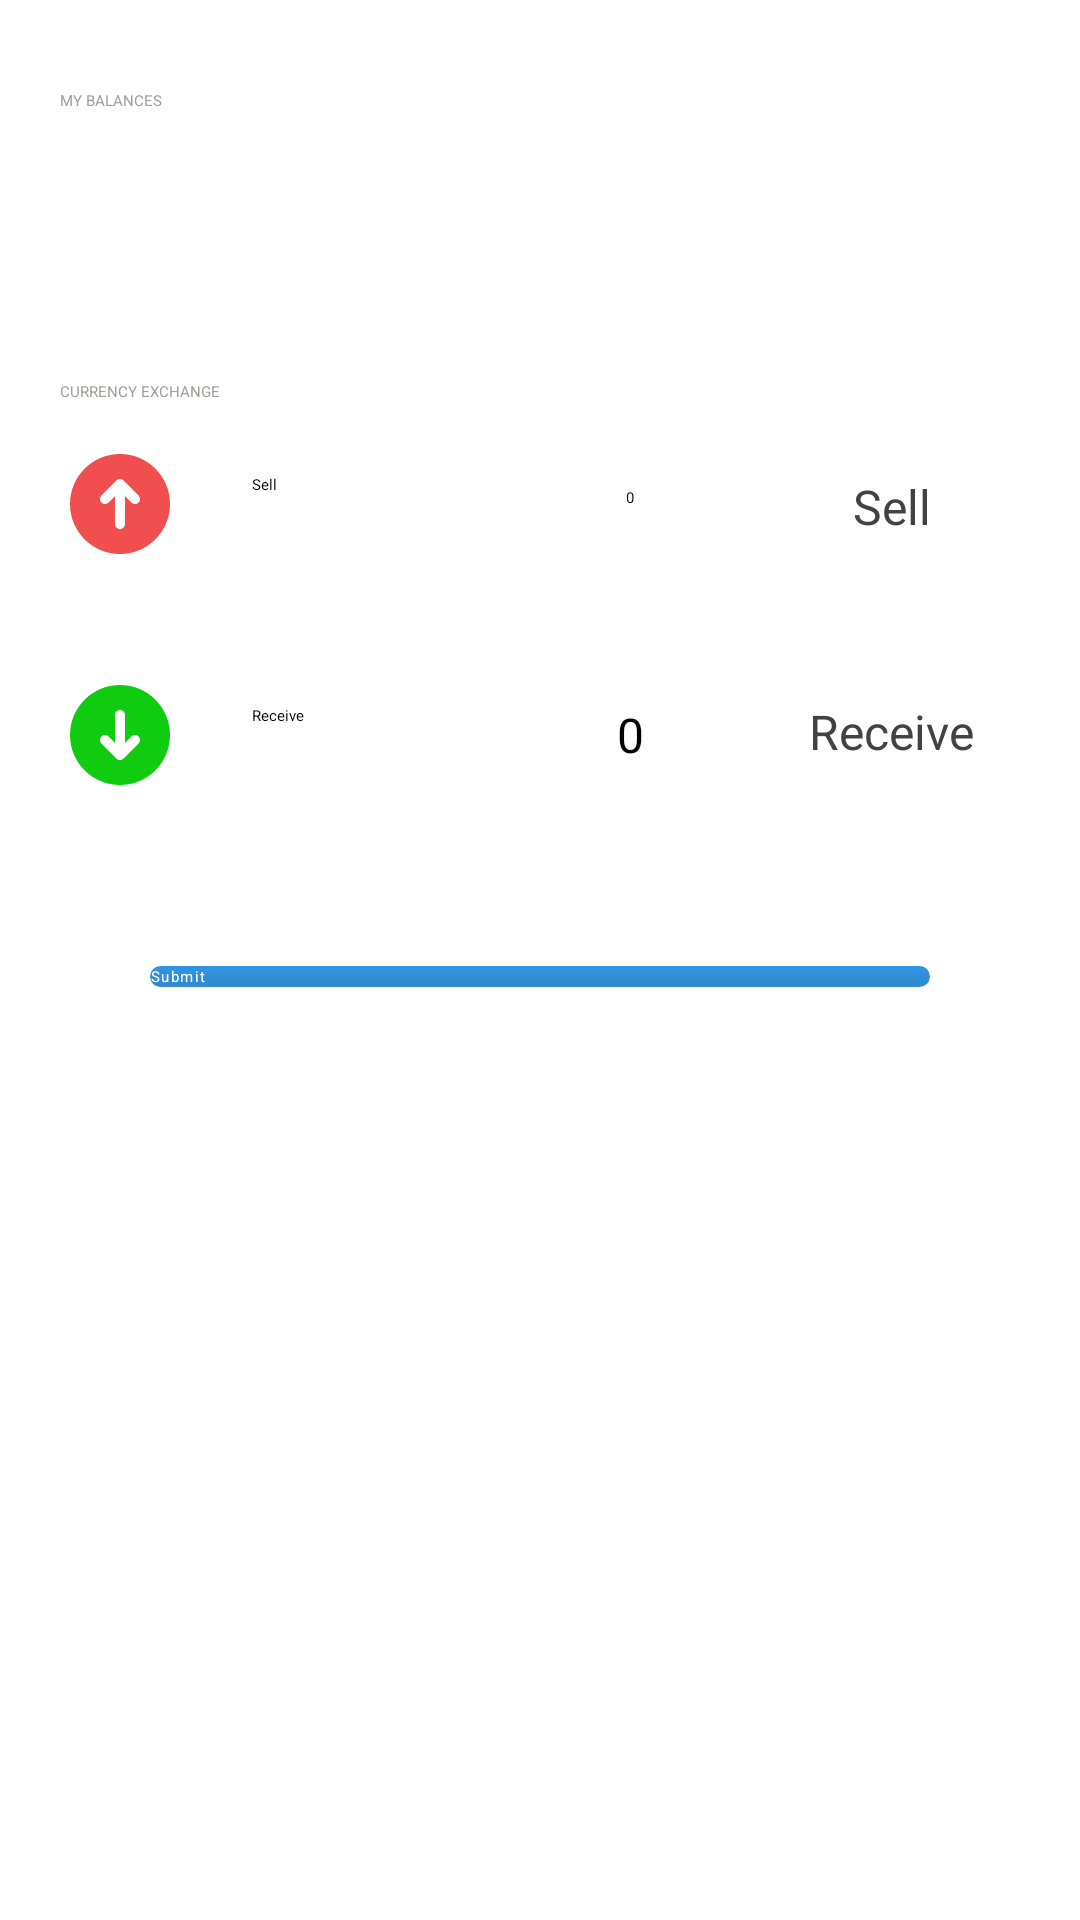

Screen size 1080×1920. Icon name, then its box in pixels as (x1, y1, x2, y2):
arrow down: (70, 685, 170, 785)
arrow up: (70, 454, 170, 554)
